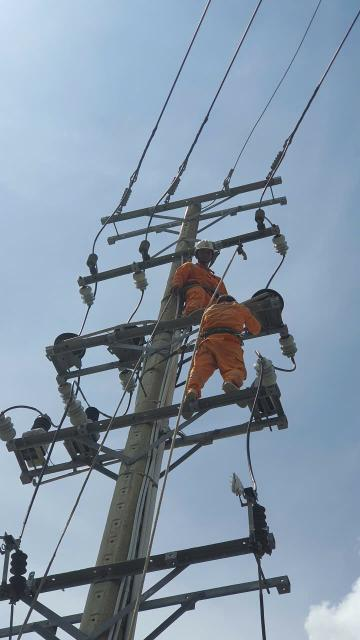gloves: (169, 283, 188, 302)
harness: (183, 279, 225, 298), (195, 325, 250, 339)
helmet: (190, 236, 218, 259), (212, 292, 241, 307)
shoes: (174, 381, 208, 420), (219, 376, 254, 409)
